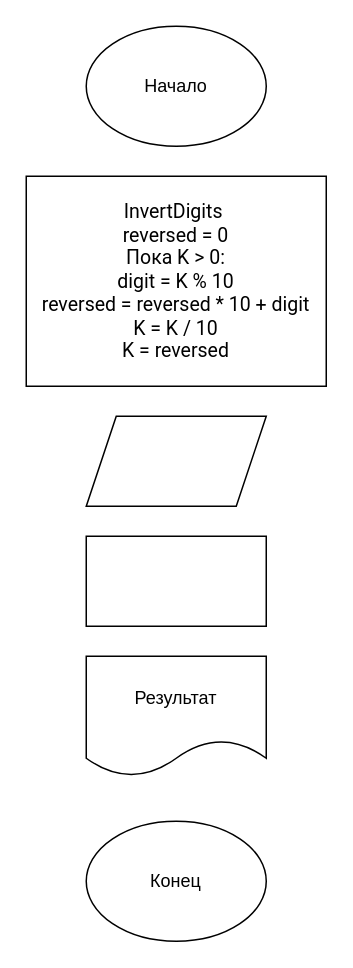
This 353x968 diagram has some shape labels left out. The centre of each missing label's shape, as x and y in pixels:
5 чисел: point 175,460
Для каждого числа вызвать InvertDigits: point 175,580
